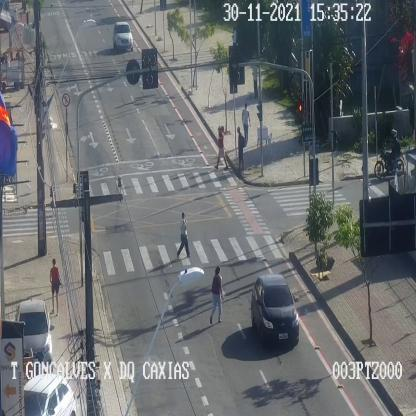car: (250, 272, 301, 349), (15, 301, 55, 369), (24, 376, 76, 416), (114, 20, 132, 52)
motorbike: (375, 129, 404, 182)
person: (209, 262, 224, 326), (176, 210, 191, 260), (215, 124, 230, 172), (50, 257, 62, 316), (237, 125, 246, 172), (242, 103, 250, 147), (251, 65, 260, 99), (231, 27, 237, 47)
